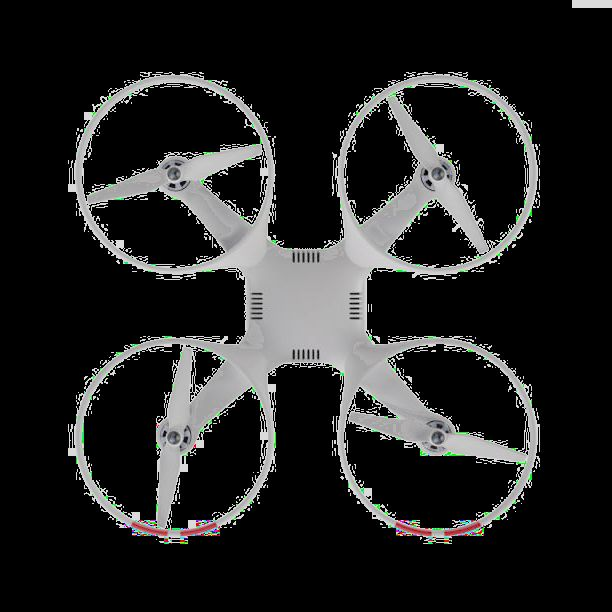Drone: (62, 61, 547, 556)
